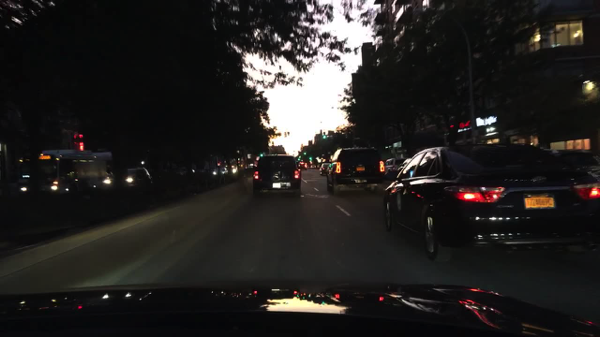car: (381, 146, 599, 263), (15, 148, 113, 200), (326, 146, 391, 198), (251, 154, 302, 198), (102, 163, 151, 189), (395, 156, 420, 177), (213, 162, 229, 187), (383, 158, 404, 175), (195, 167, 213, 184), (172, 166, 194, 178), (317, 161, 330, 177), (227, 163, 239, 178), (298, 161, 308, 171), (310, 164, 317, 170)
traffic light: (321, 131, 327, 141), (303, 152, 307, 159), (259, 149, 263, 156)
